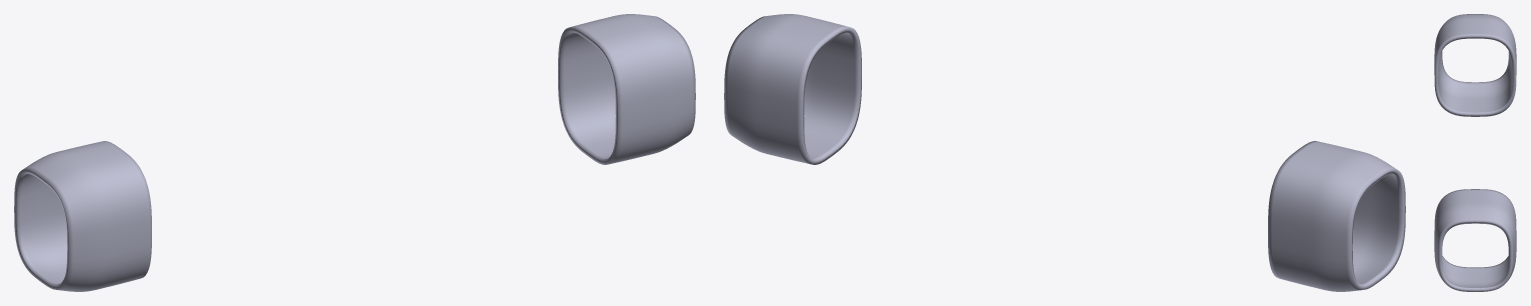
File: squire_bracers.glb
The picture shows the model from 3 angles, left to right: view 1: azimuth 30°, elevation 25°; view 2: azimuth 150°, elevation 25°; view 3: azimuth 270°, elevation 25°; orthographic projection. The views are drawn at different scales.
Parts seen in each view (by area): view 1: squire_bracers__shell_l, squire_bracers__shell_r; view 2: squire_bracers__shell_l, squire_bracers__shell_r; view 3: squire_bracers__shell_l, squire_bracers__shell_r.
Part boxes in pixels (x1,y1,x2,y2): squire_bracers__shell_l: (558,14,695,164); squire_bracers__shell_r: (14,141,151,291); squire_bracers__shell_l: (724,14,861,164); squire_bracers__shell_r: (1268,141,1405,291); squire_bracers__shell_l: (1434,189,1516,291); squire_bracers__shell_r: (1434,14,1516,116).
Size of the model in its own units: 3.01 by 0.558 by 0.506.
